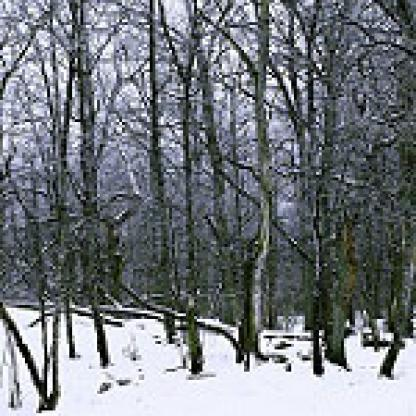trunk: (233, 0, 275, 358), (310, 8, 346, 369), (144, 3, 178, 341), (69, 2, 103, 310), (391, 0, 414, 339)
